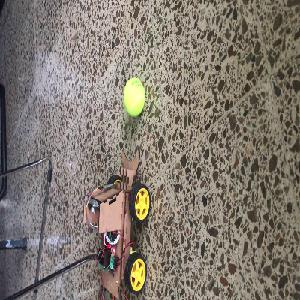Ball: (122, 77, 146, 115)
Robot: (82, 151, 147, 298)
